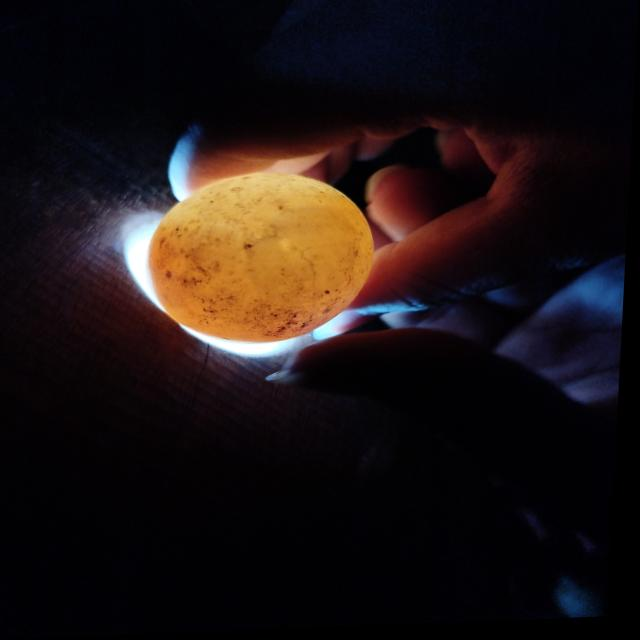Camara de Ar: (257, 212, 359, 307)
